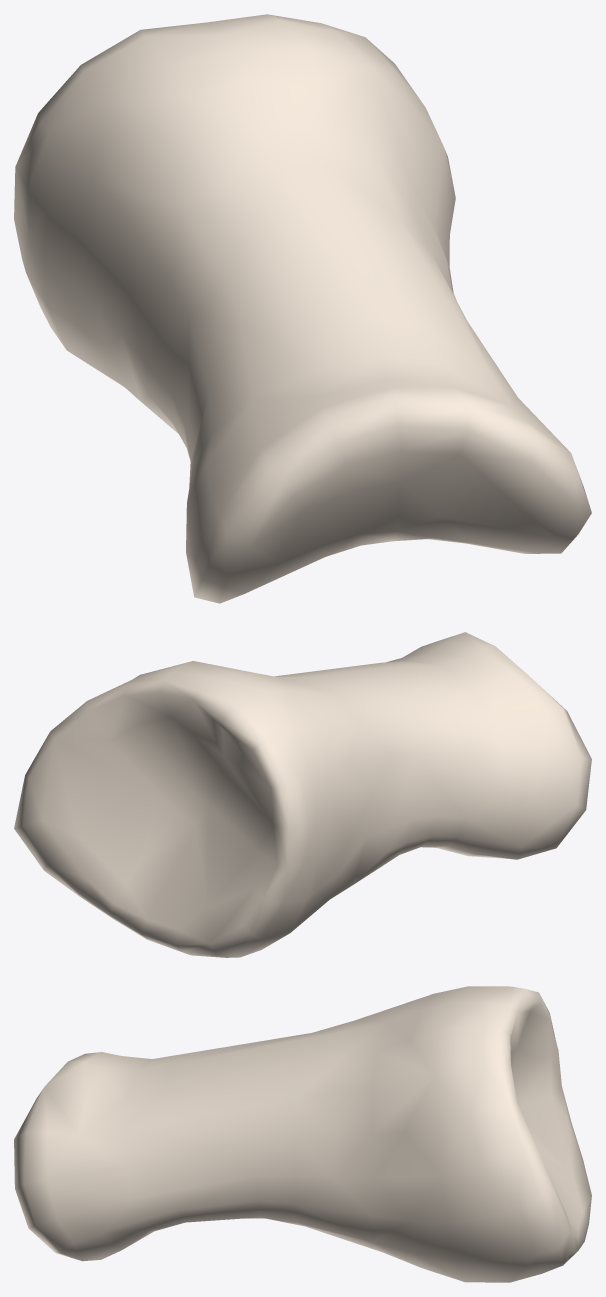
Rendered from right_toe_1_proximal.glb.
3 renders of one model, top to bottom at view 1: azimuth 30°, elevation 25°; view 2: azimuth 150°, elevation 25°; view 3: azimuth 270°, elevation 25°, orthographic. The views are drawn at different scales.
Parts seen in each view (by area): view 1: Proximal phalanx of first finger of foot.r; view 2: Proximal phalanx of first finger of foot.r; view 3: Proximal phalanx of first finger of foot.r.
Boxes of the visible parts, x1=… form: Proximal phalanx of first finger of foot.r: x1=14, y1=14, x2=591, y2=603; Proximal phalanx of first finger of foot.r: x1=14, y1=632, x2=591, y2=957; Proximal phalanx of first finger of foot.r: x1=14, y1=986, x2=591, y2=1282.
Bounding box in the file's own units: 0.0244 × 0.0165 × 0.0334.
